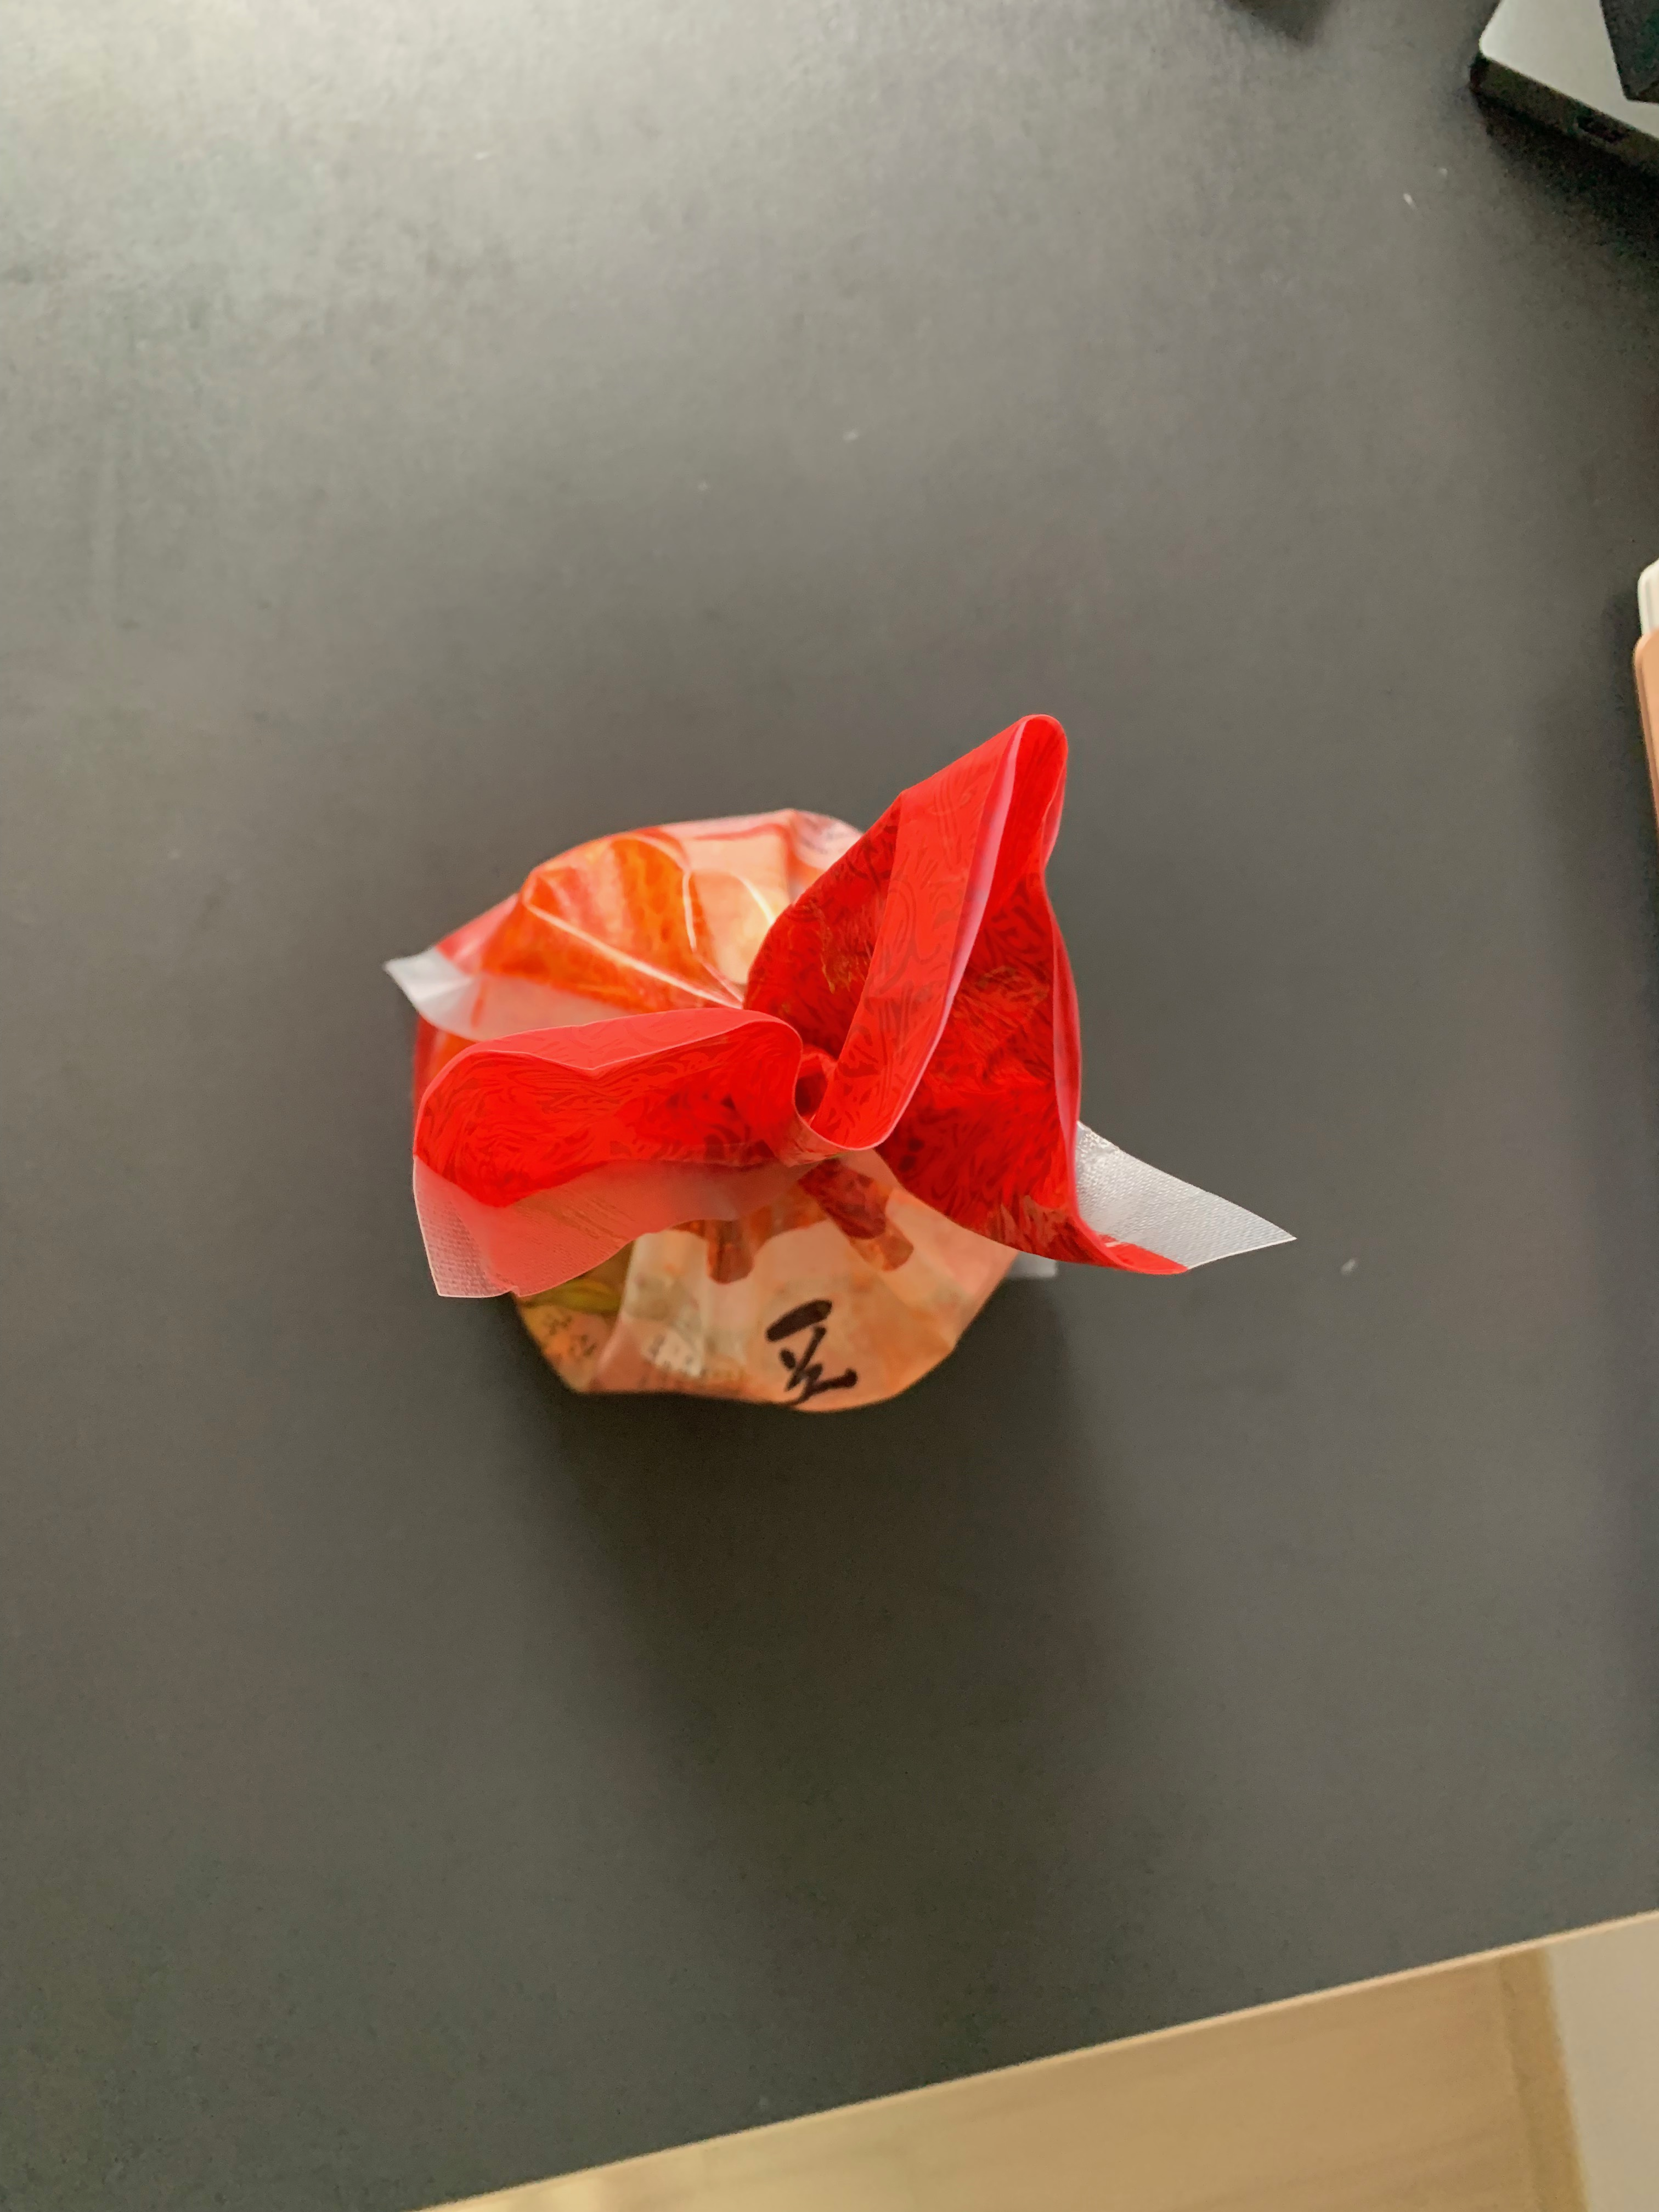kimchi: (410, 711, 1101, 1420)
